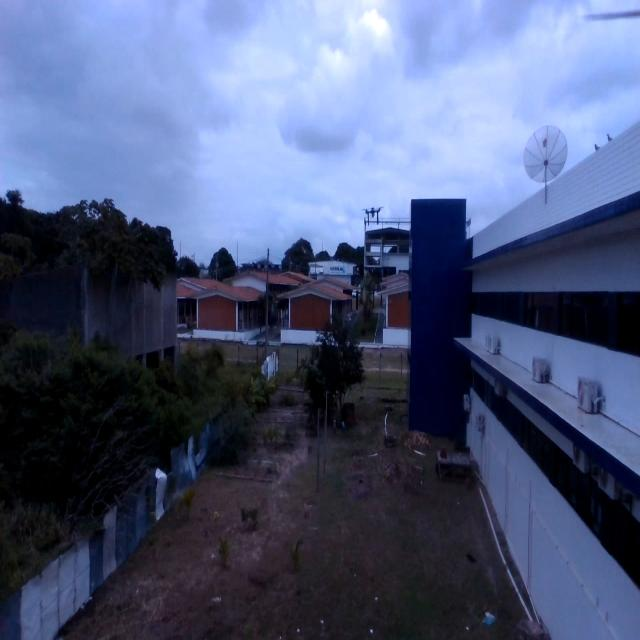-uav-: (360, 200, 381, 234)
